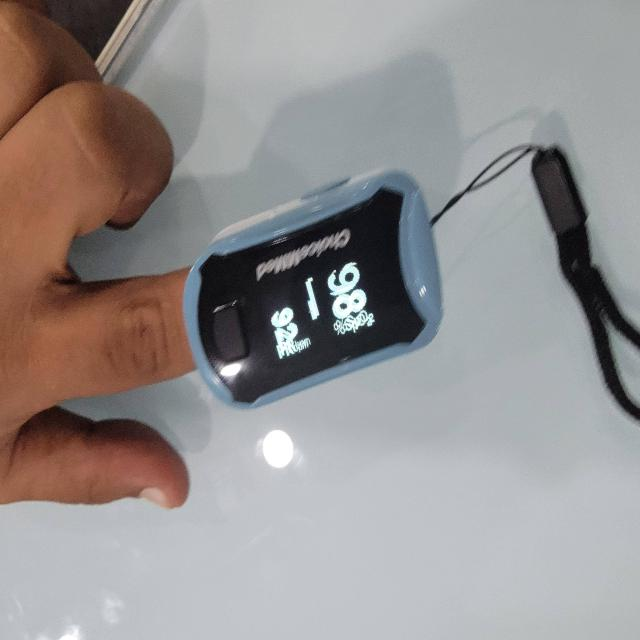spo2: (184, 170, 444, 410)
